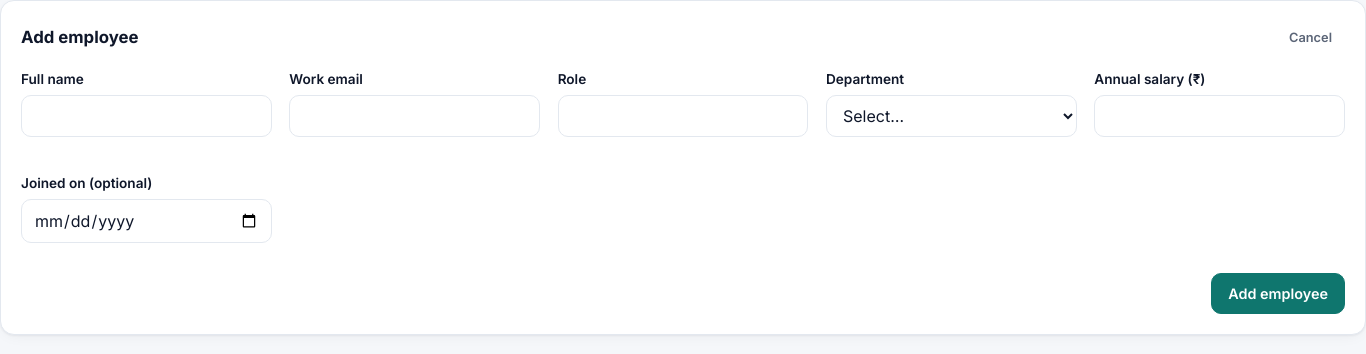
Test: EmployeeForm › shows an error for every invalid field and focuses the first one
The width and height of the screenshot is (1366, 354).
Click the button "Add employee" at {"x": 1278, "y": 294}, box [1211,273,1345,314]
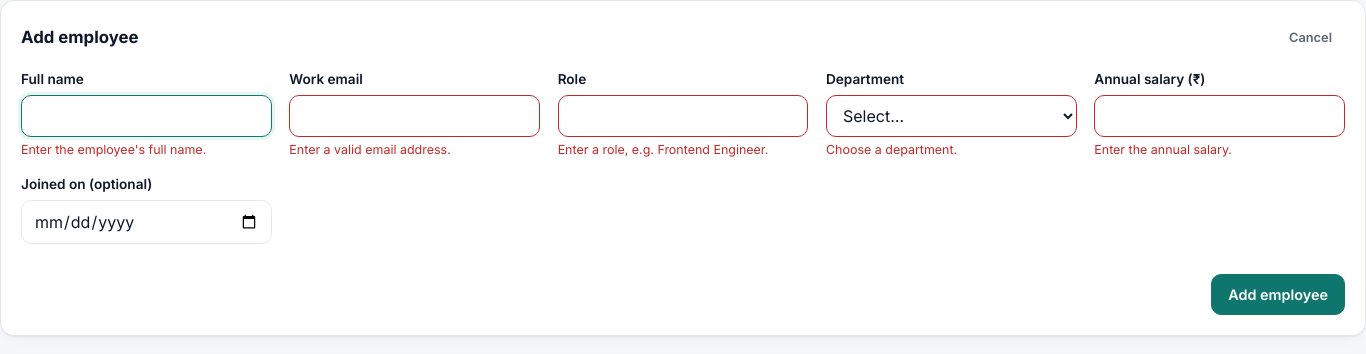
Check: the text "Enter the employee's full name." is shown, box [21,142,206,157]
Check: the text "Enter a valid email address." is shown, box [289,142,451,157]
Check: the text "Choose a department." is shown, box [826,142,957,157]
